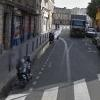Motorcycle: (9, 51, 33, 90)
